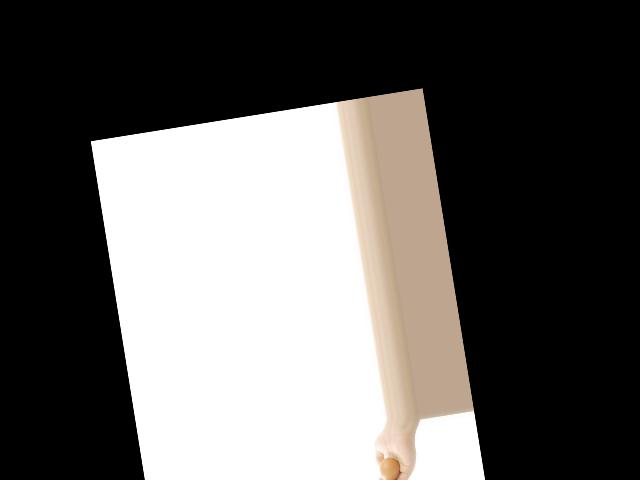egg: (378, 456, 401, 480)
